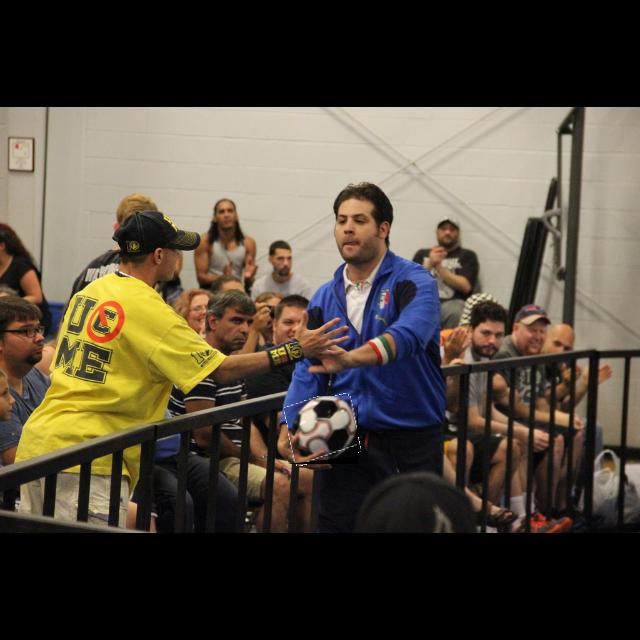Football: (288, 396, 358, 464)
